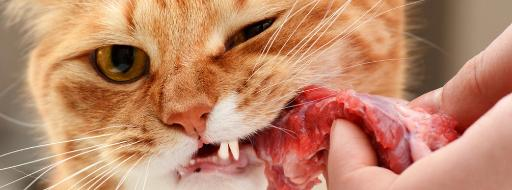cat_eating: (6, 0, 457, 190)
